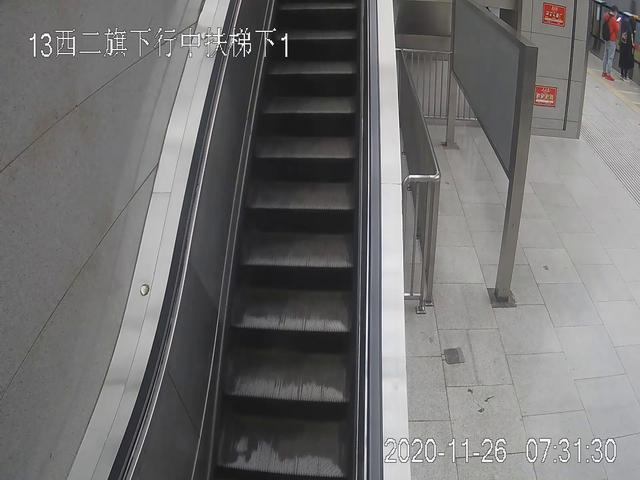person: (600, 6, 621, 80)
